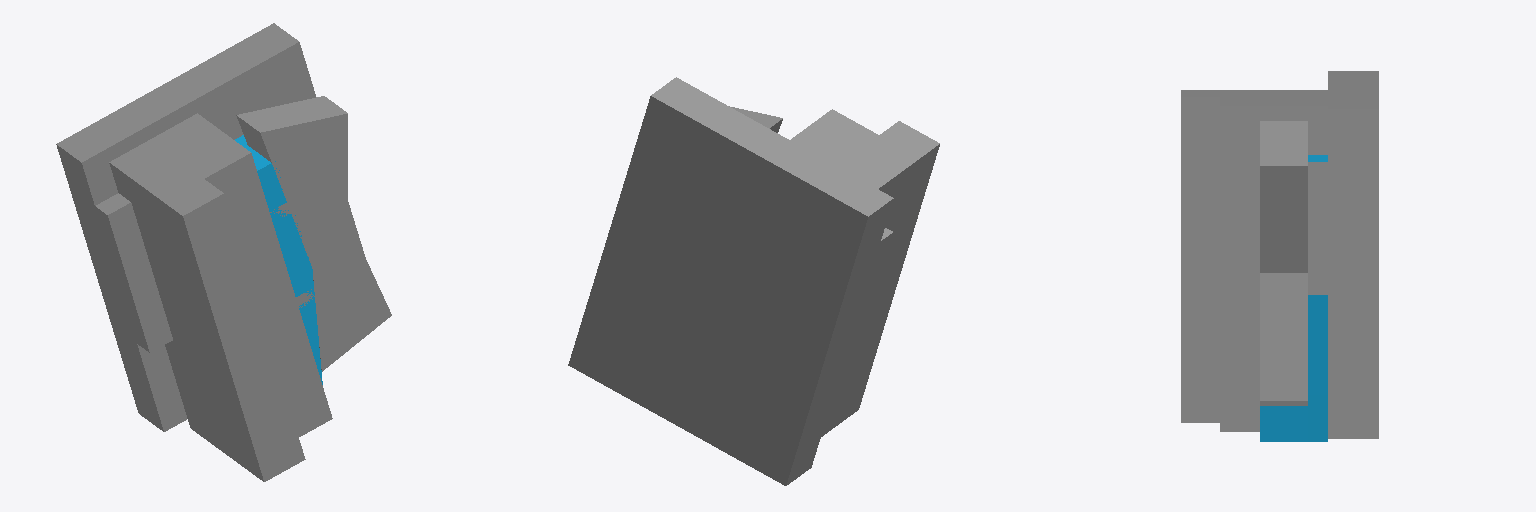
Rendered from opt2-1.obj.
3 renders of one model, left to right at view 1: azimuth 30°, elevation 25°; view 2: azimuth 150°, elevation 25°; view 3: azimuth 270°, elevation 25°, orthographic.
Size of the model in its own units: 244 by 280 by 140.